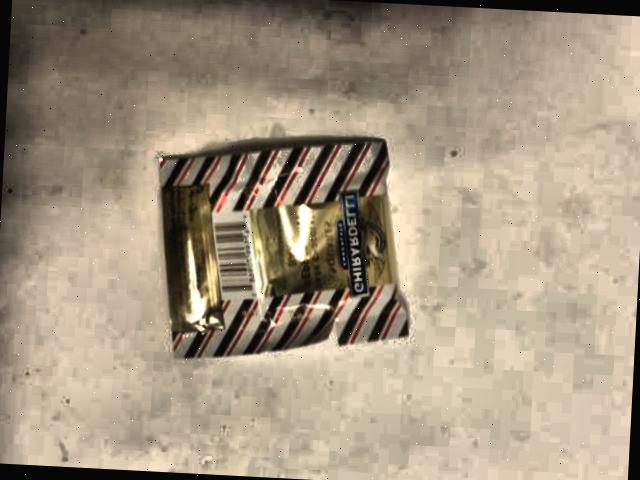Plastic: (134, 113, 430, 376)
